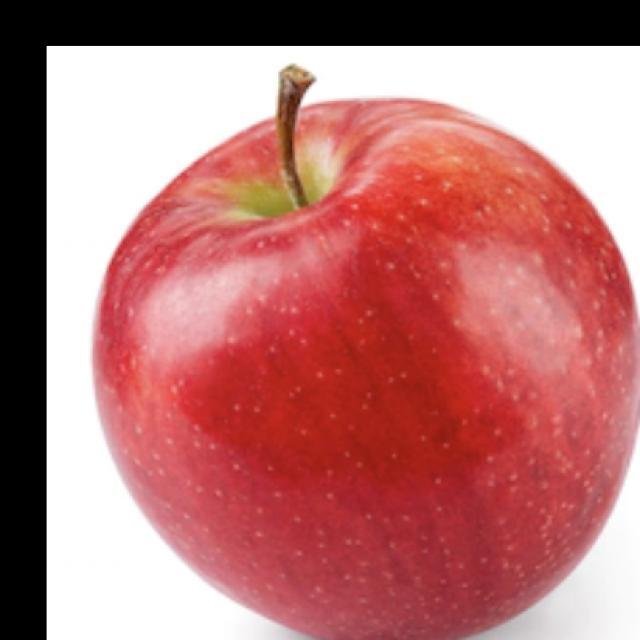Fresh Apple: (125, 105, 617, 633)
